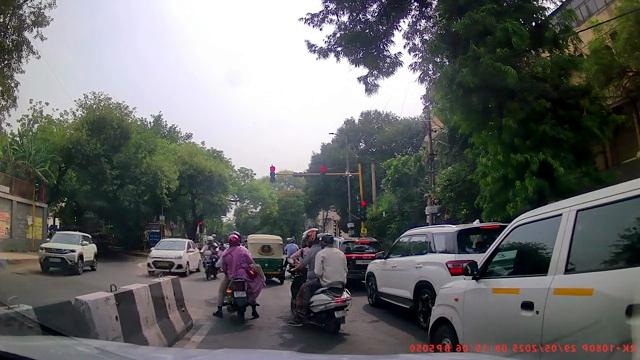passenger_with_helmet: (288, 229, 352, 334), (213, 231, 264, 323)
